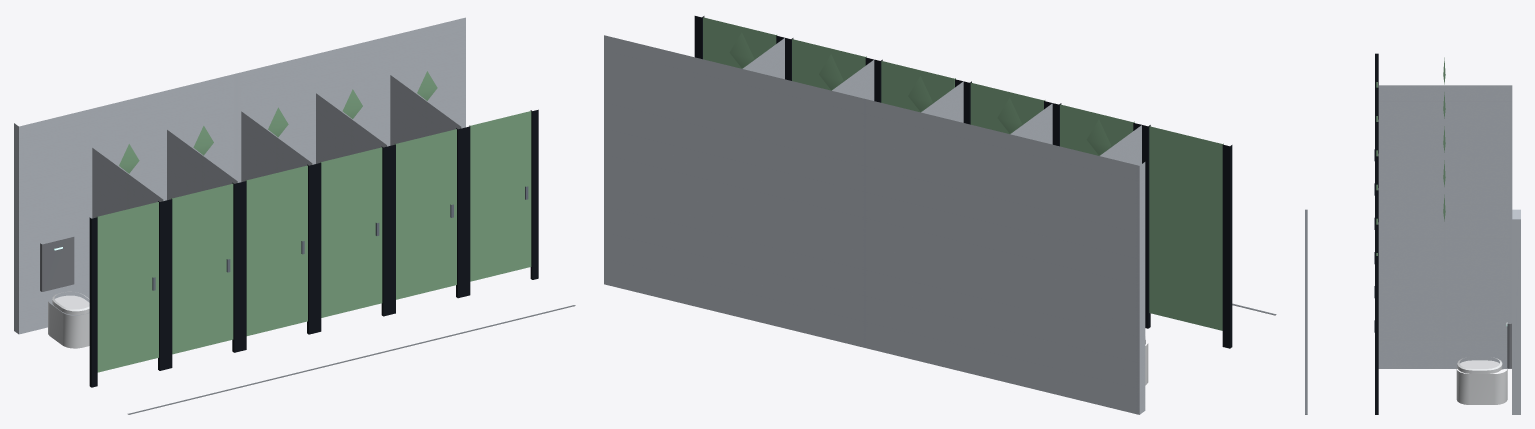
File: tt_restroom_6.glb
3 views of the same model, side by side, from view 1: azimuth 30°, elevation 25°; view 2: azimuth 150°, elevation 25°; view 3: azimuth 270°, elevation 25° (orthographic). The views are drawn at different scales.
Parts seen in each view (by area): view 1: Stall_Doors, Wet_Wall, Pilasters, Partitions, WC, WC_VacUnit, Leaf_Crests, Aisle_Centre_Strip; view 2: Wet_Wall, Stall_Doors, Pilasters, Partitions, Leaf_Crests; view 3: Partitions, WC, Wet_Wall, Pilasters, Aisle_Centre_Strip, Leaf_Crests, WC_VacUnit.
Part boxes in pixels (left/top/right/bottom): Stall_Doors: left=96, top=111, right=531, bottom=372; Wet_Wall: left=14, top=17, right=465, bottom=334; Pilasters: left=89, top=109, right=538, bottom=387; Partitions: left=92, top=75, right=463, bottom=218; WC: left=48, top=291, right=89, bottom=348; WC_VacUnit: left=40, top=237, right=74, bottom=291; Leaf_Crests: left=119, top=71, right=437, bottom=173; Aisle_Centre_Strip: left=128, top=305, right=575, bottom=414; Wet_Wall: left=604, top=35, right=1145, bottom=414; Stall_Doors: left=703, top=17, right=1223, bottom=330; Pilasters: left=694, top=16, right=1232, bottom=348; Partitions: left=742, top=38, right=1141, bottom=165; Leaf_Crests: left=729, top=32, right=1111, bottom=154; Partitions: left=1378, top=85, right=1512, bottom=368; WC: left=1456, top=357, right=1507, bottom=404; Wet_Wall: left=1512, top=209, right=1520, bottom=414; Pilasters: left=1375, top=53, right=1378, bottom=414; Aisle_Centre_Strip: left=1305, top=209, right=1307, bottom=414; Leaf_Crests: left=1443, top=57, right=1445, bottom=221; WC_VacUnit: left=1507, top=323, right=1511, bottom=368.
Size of what is drawn, in the model's own units: 5.4 by 2.4 by 2.4.
8 materials, 3 textured.
